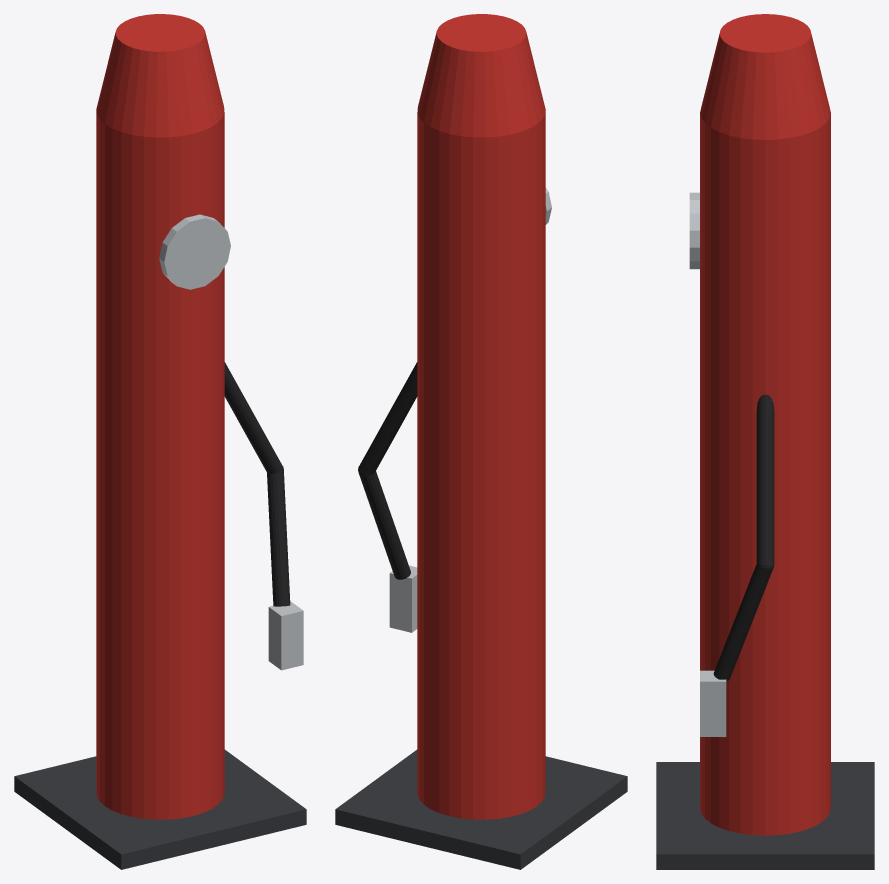
3 views of the same model, side by side, from view 1: azimuth 30°, elevation 25°; view 2: azimuth 150°, elevation 25°; view 3: azimuth 270°, elevation 25° (orthographic).
Visible parts, largest first — view 1: baseOffset=0;diameter=0.15;height=1;material=steel_dark;powe (×4); view 2: baseOffset=0;diameter=0.15;height=1;material=steel_dark;powe (×4); view 3: baseOffset=0;diameter=0.15;height=1;material=steel_dark;powe (×4).
Boxes of the visible parts, box(x1,y1,x2,y2) form: baseOffset=0;diameter=0.15;height=1;material=steel_dark;powe (×4): box(14, 14, 306, 869); baseOffset=0;diameter=0.15;height=1;material=steel_dark;powe (×4): box(335, 14, 627, 869); baseOffset=0;diameter=0.15;height=1;material=steel_dark;powe (×4): box(656, 14, 874, 869).
Bounding box in the file's own units: 0.2902 × 0.25 × 1.
